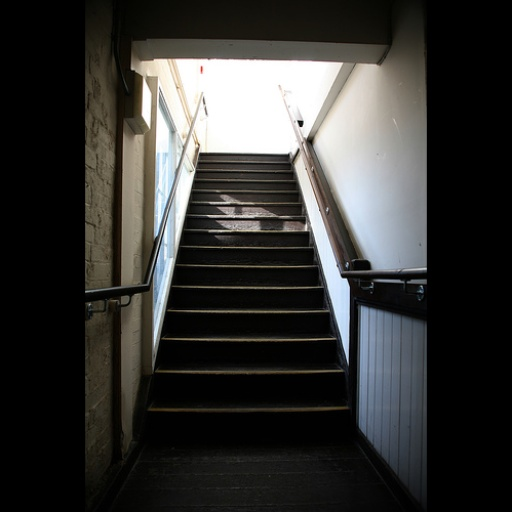Stairs: (145, 153, 350, 444)
